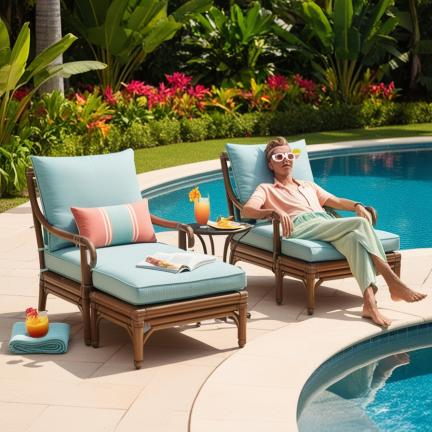guest on chair: (220, 137, 425, 326)
occupied chair: (27, 148, 247, 368)
